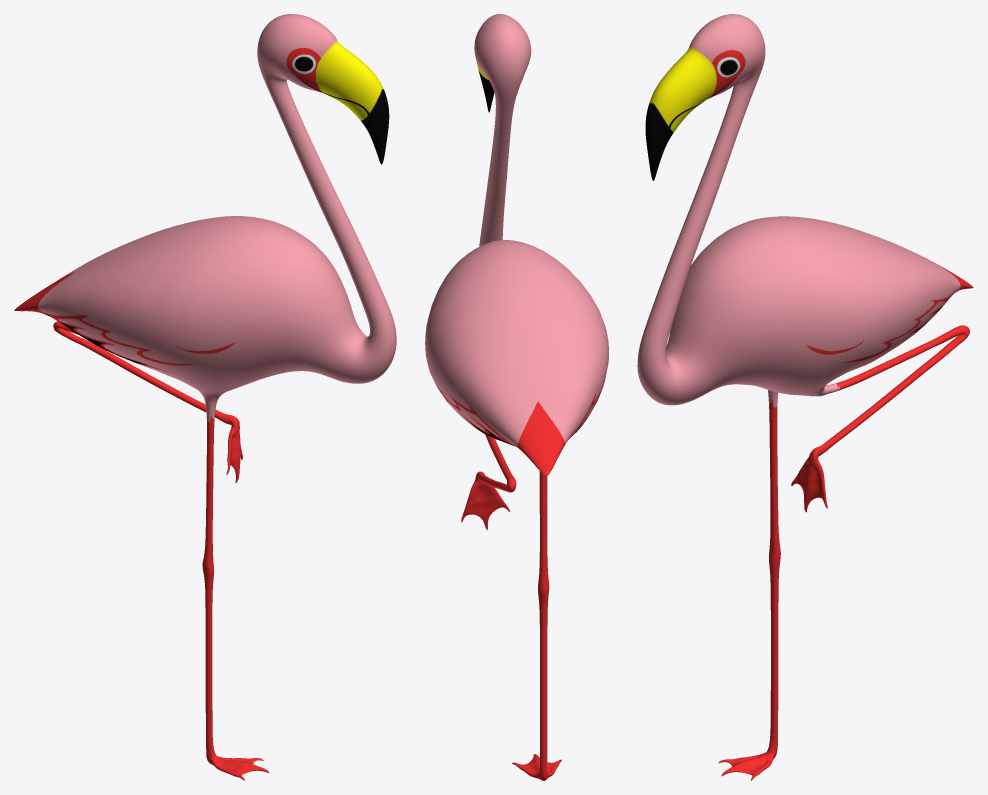
Rendered from flamingo.glb.
3 views of the same model, side by side, from view 1: azimuth 30°, elevation 25°; view 2: azimuth 150°, elevation 25°; view 3: azimuth 270°, elevation 25° (orthographic). The views are drawn at different scales.
Visible parts, largest first — view 1: node_id59_1; view 2: node_id59_1; view 3: node_id59_1.
Part boxes in pixels (x1,y1,x2,y2): node_id59_1: (14,14,396,780); node_id59_1: (425,14,608,780); node_id59_1: (637,14,973,780).
Bounding box in the file's own units: 0.163 × 0.512 × 0.2013.
1 material, 1 textured.
